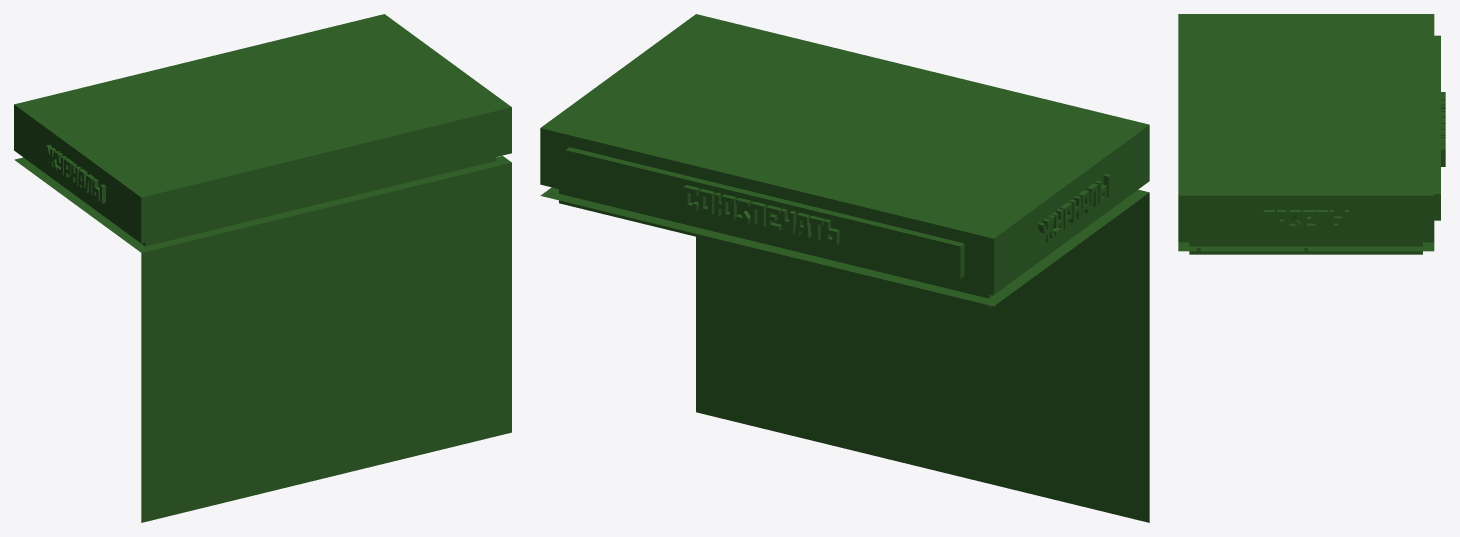
Rendered from SM_Kiosk_Back.fbx.
The picture shows the model from 3 angles, left to right: view 1: azimuth 30°, elevation 25°; view 2: azimuth 150°, elevation 25°; view 3: azimuth 270°, elevation 25°; orthographic projection. The views are drawn at different scales.
Parts seen in each view (by area): view 1: SM_Kiosk_Back; view 2: SM_Kiosk_Back; view 3: SM_Kiosk_Back.
Boxes of the visible parts, left/top/right/bottom form: SM_Kiosk_Back: left=14, top=14, right=511, bottom=522; SM_Kiosk_Back: left=540, top=14, right=1149, bottom=522; SM_Kiosk_Back: left=1178, top=14, right=1445, bottom=254.
Size of the model in its own units: 3935 by 3230 by 2393.
